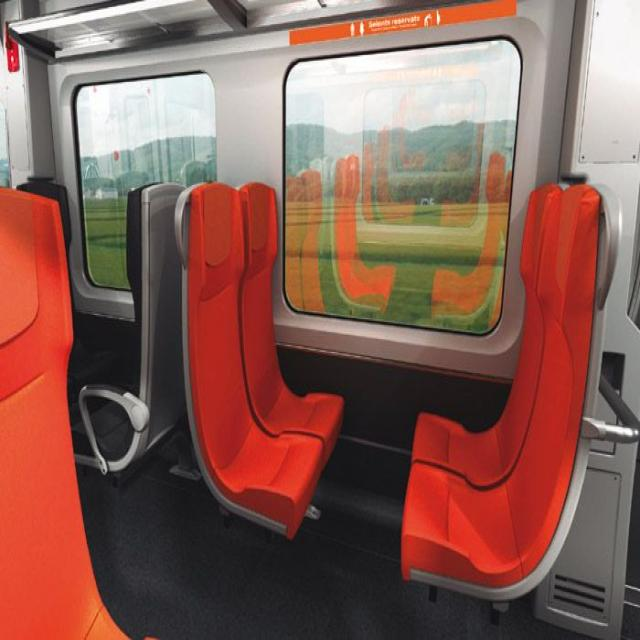seient: (402, 183, 636, 601), (0, 189, 125, 638), (182, 183, 322, 538), (240, 183, 344, 463)
